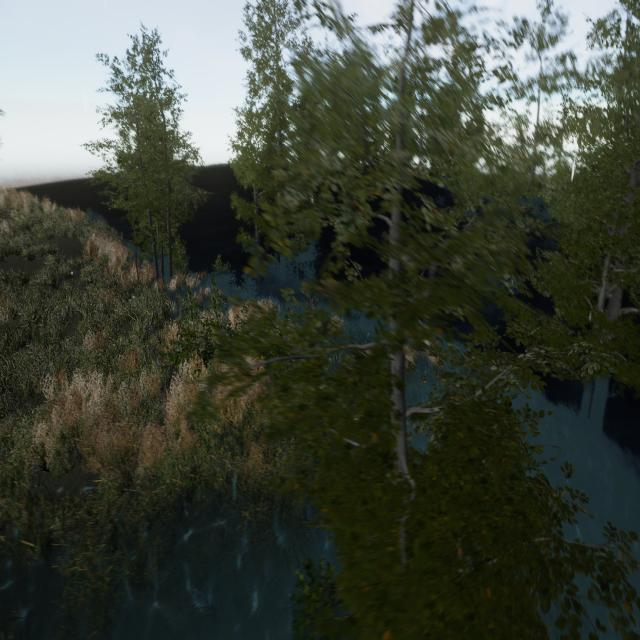Human: (188, 272, 208, 324)
